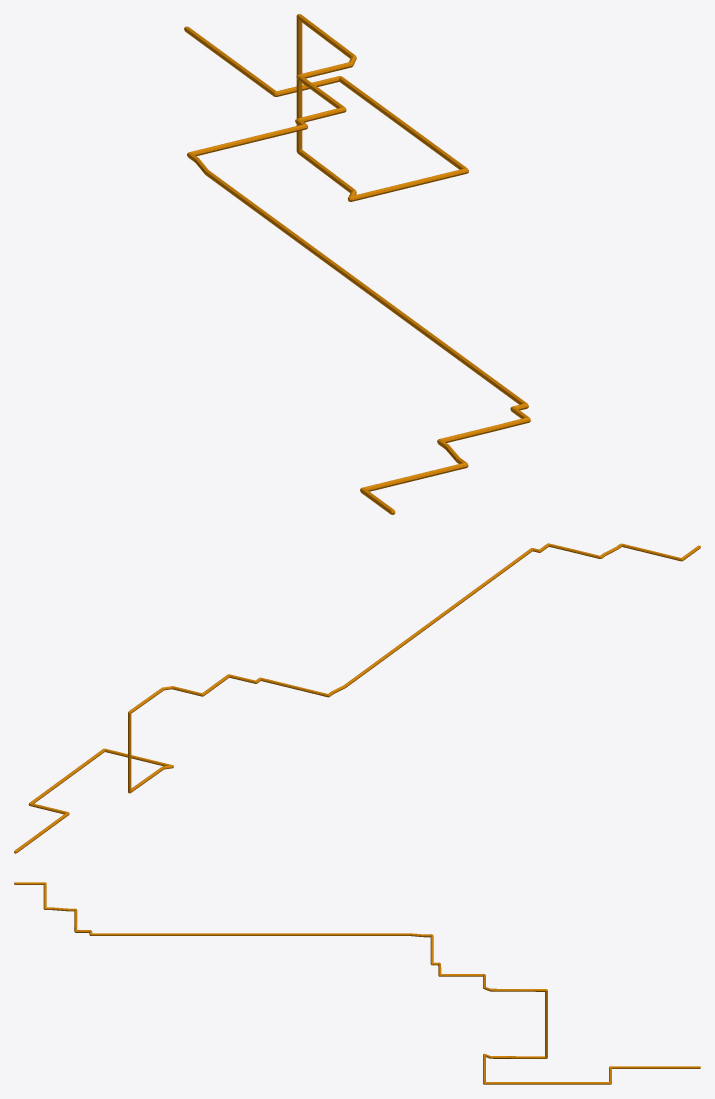
3 renders of one model, top to bottom at view 1: azimuth 30°, elevation 25°; view 2: azimuth 150°, elevation 25°; view 3: azimuth 270°, elevation 25°, orthographic. The views are drawn at different scales.
Size of the model in its own units: 2131 by 520 by 4631.
